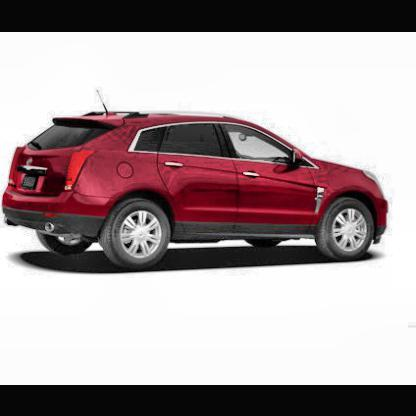Cadillac SRX SUV 2012: (2, 87, 395, 275)
